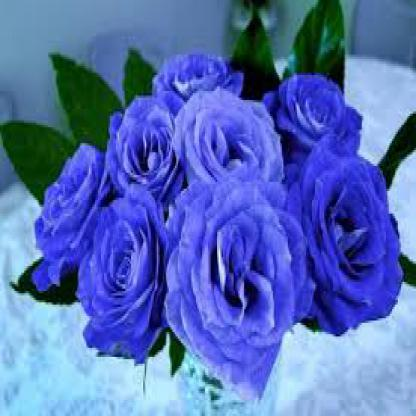Rose-Mawar: (25, 49, 405, 374)
